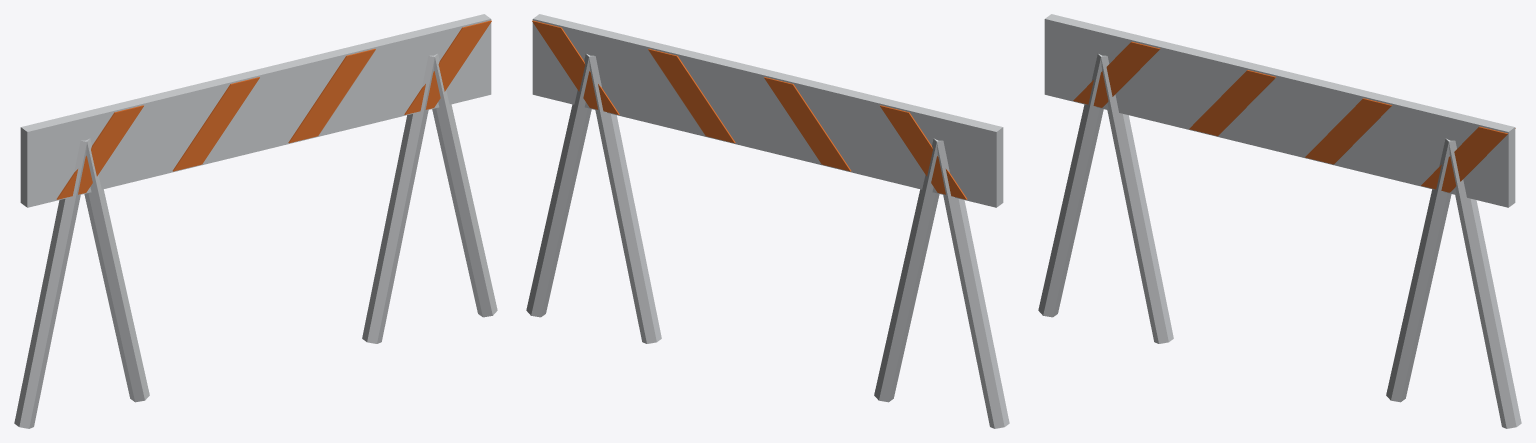
Rendered from road_barrier_striped.glb.
3 views of the same model, side by side, from view 1: azimuth 30°, elevation 25°; view 2: azimuth 150°, elevation 25°; view 3: azimuth 330°, elevation 25° (orthographic).
Visible parts, largest first — view 1: road_barrier_striped; view 2: road_barrier_striped; view 3: road_barrier_striped.
Boxes of the visible parts, bbox=[...] form: road_barrier_striped: bbox=[14, 14, 497, 428]; road_barrier_striped: bbox=[526, 14, 1009, 428]; road_barrier_striped: bbox=[1038, 14, 1521, 428].
Size of the model in its own units: 1.65 by 0.9806 by 0.06.
